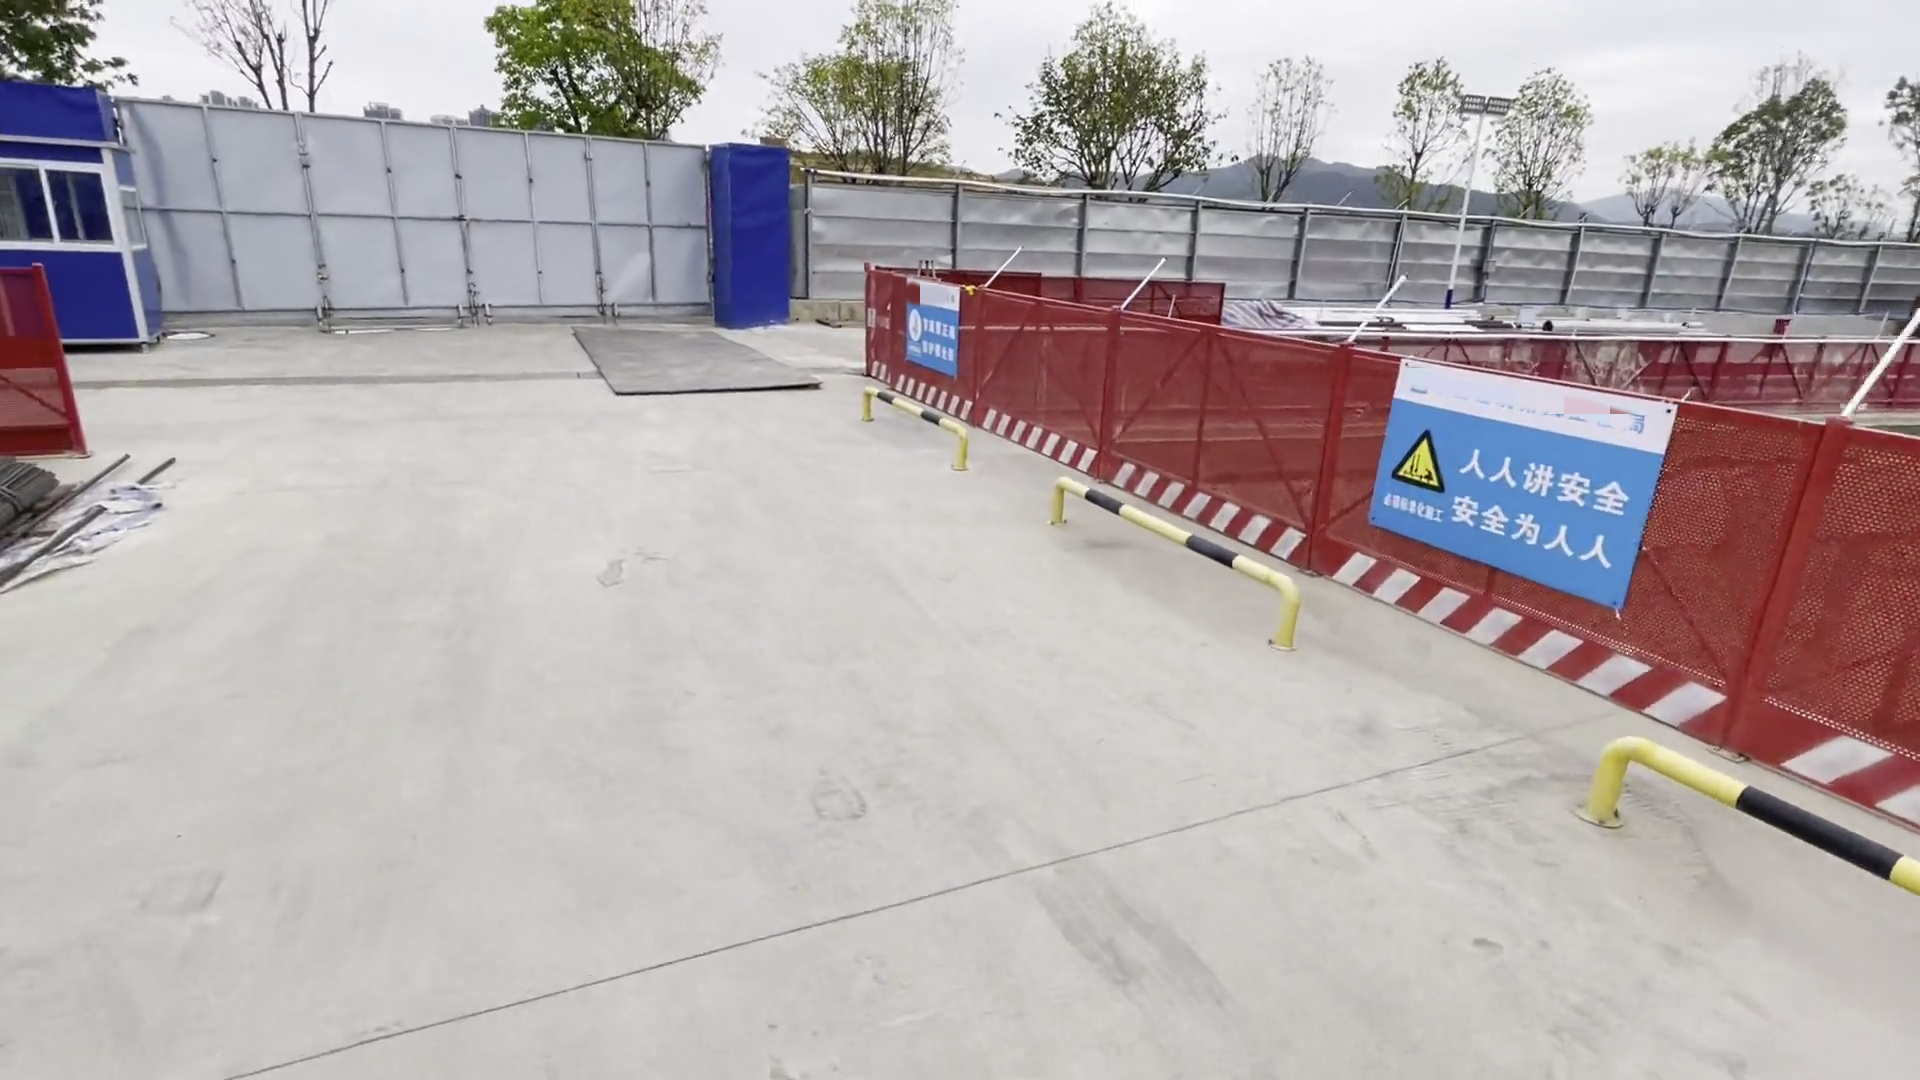fence: (869, 262, 1920, 822)
rebar: (1, 459, 63, 525)
slogan: (1383, 415, 1635, 578), (902, 310, 957, 367)
